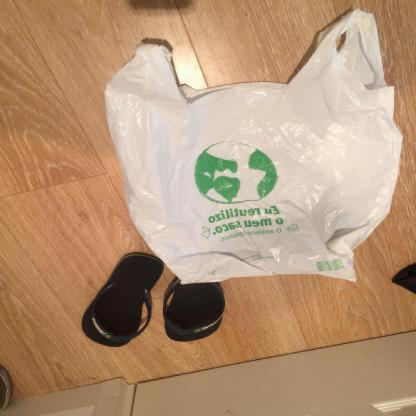Other litter: (82, 254, 164, 347), (163, 276, 225, 342)
Plastic bag - wrapper: (105, 9, 403, 284)
